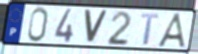0: (27, 6, 49, 44)
2: (107, 10, 132, 46)
4: (54, 8, 76, 44)
A: (156, 12, 189, 50)
T: (139, 12, 161, 46)
V: (83, 8, 110, 45)
